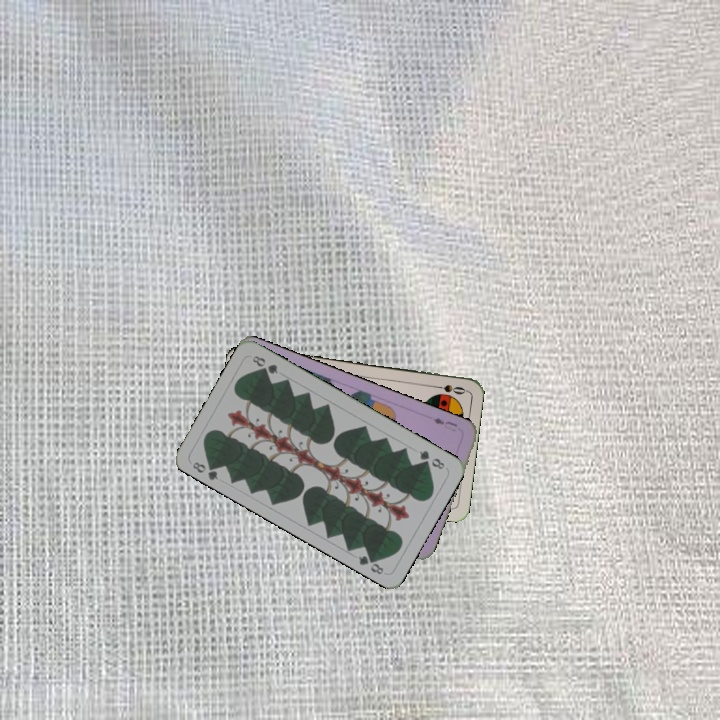EU: (429, 413, 460, 434)
G8: (188, 457, 221, 483), (415, 446, 447, 472)
SO: (427, 381, 468, 397)
